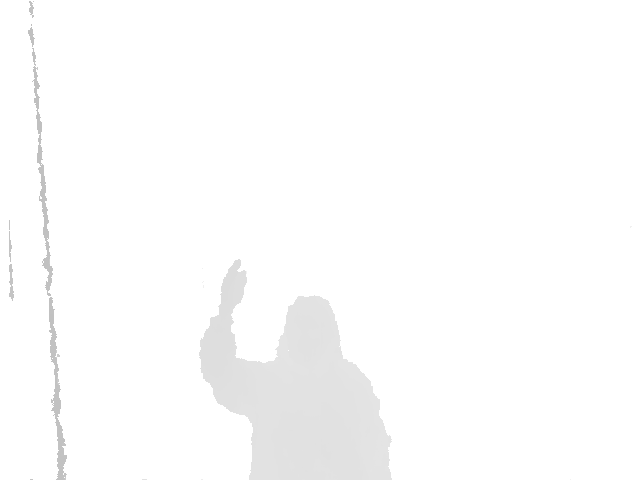hand: (219, 258, 247, 317)
head: (275, 296, 342, 363)
person: (199, 259, 393, 480)
